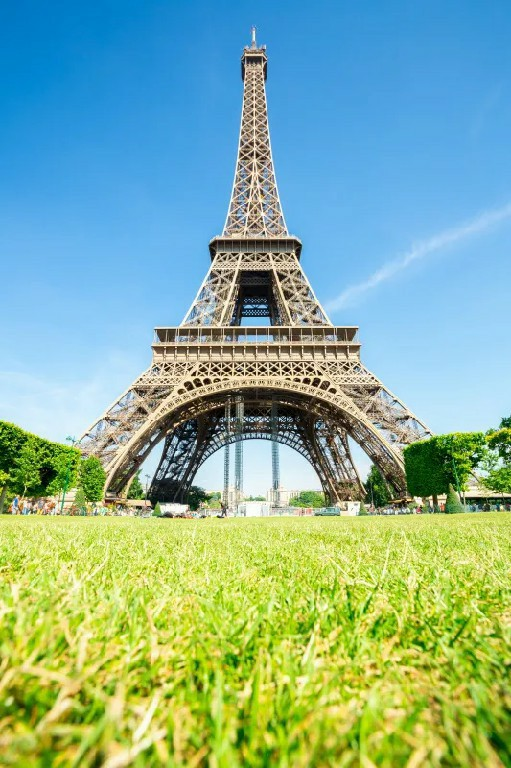Eiffel: (70, 25, 481, 511)
